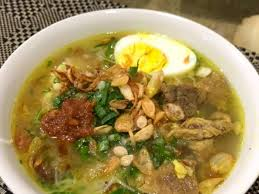soto: (11, 22, 250, 194)
